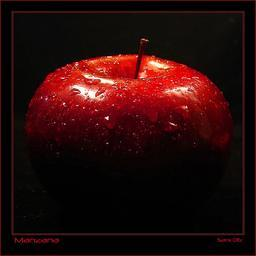apple: (23, 47, 234, 202)
